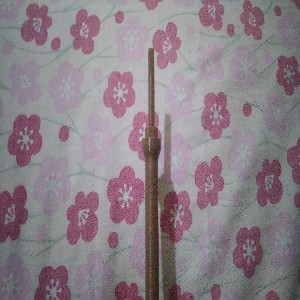obeng: (142, 47, 162, 300)
